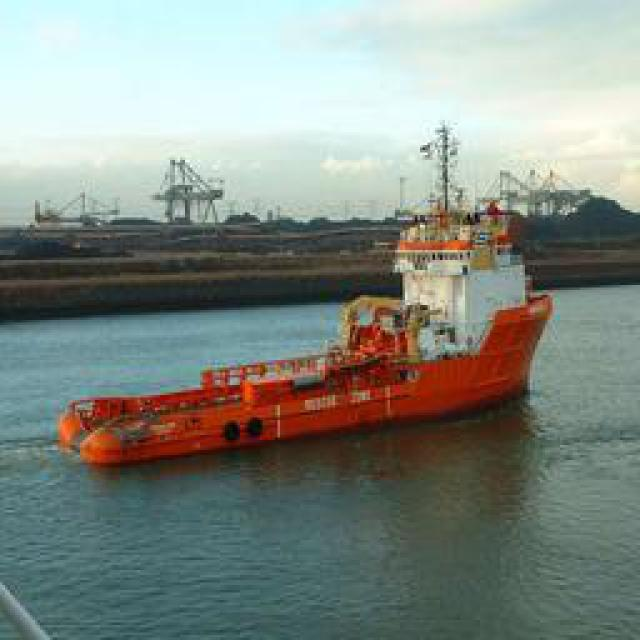Ship: (52, 124, 560, 470)
